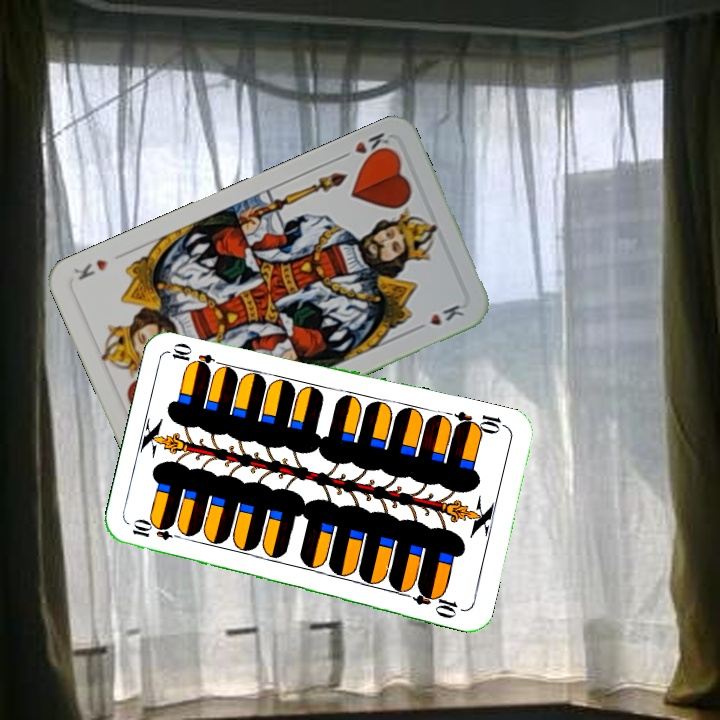E10: (450, 407, 510, 437), (128, 517, 187, 543)
HK: (335, 128, 396, 164)
